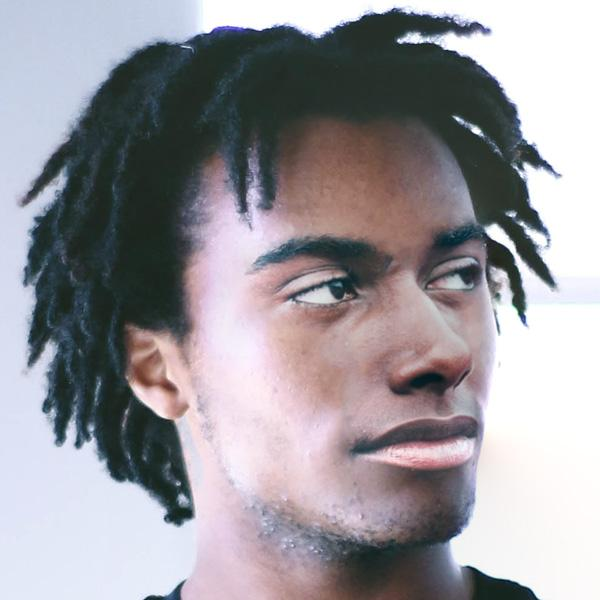Eyes: (271, 257, 373, 324), (418, 250, 490, 306)
